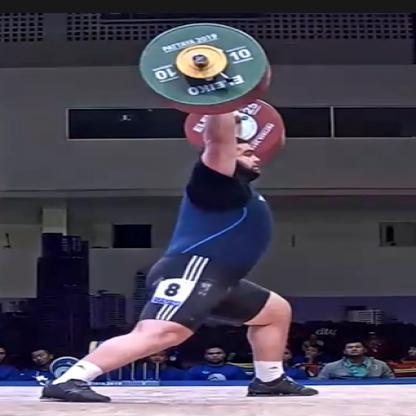barbell: (137, 22, 286, 167)
